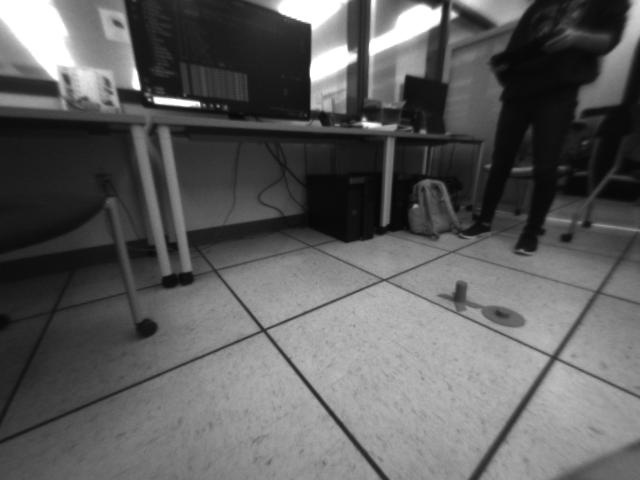X: (437, 279, 484, 313)
